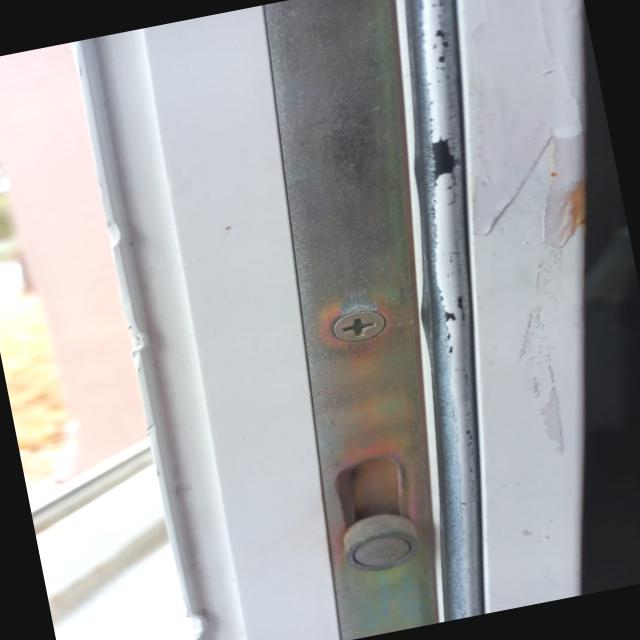Phillips: (326, 304, 390, 348)
